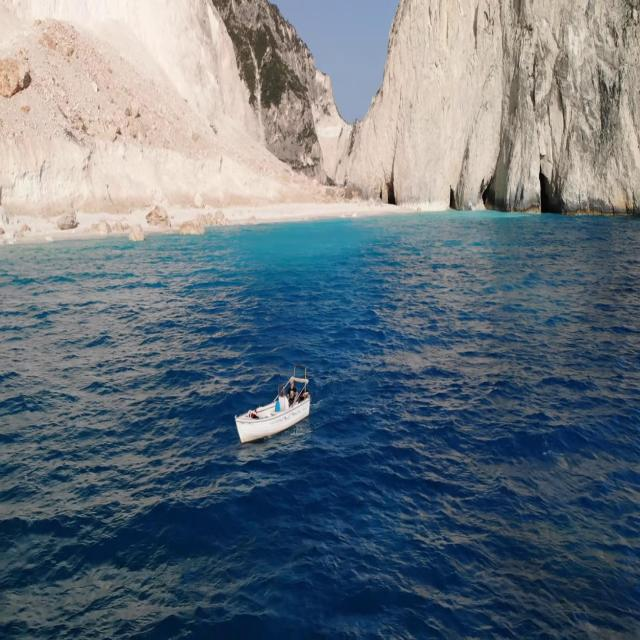boat: (233, 374, 310, 450)
